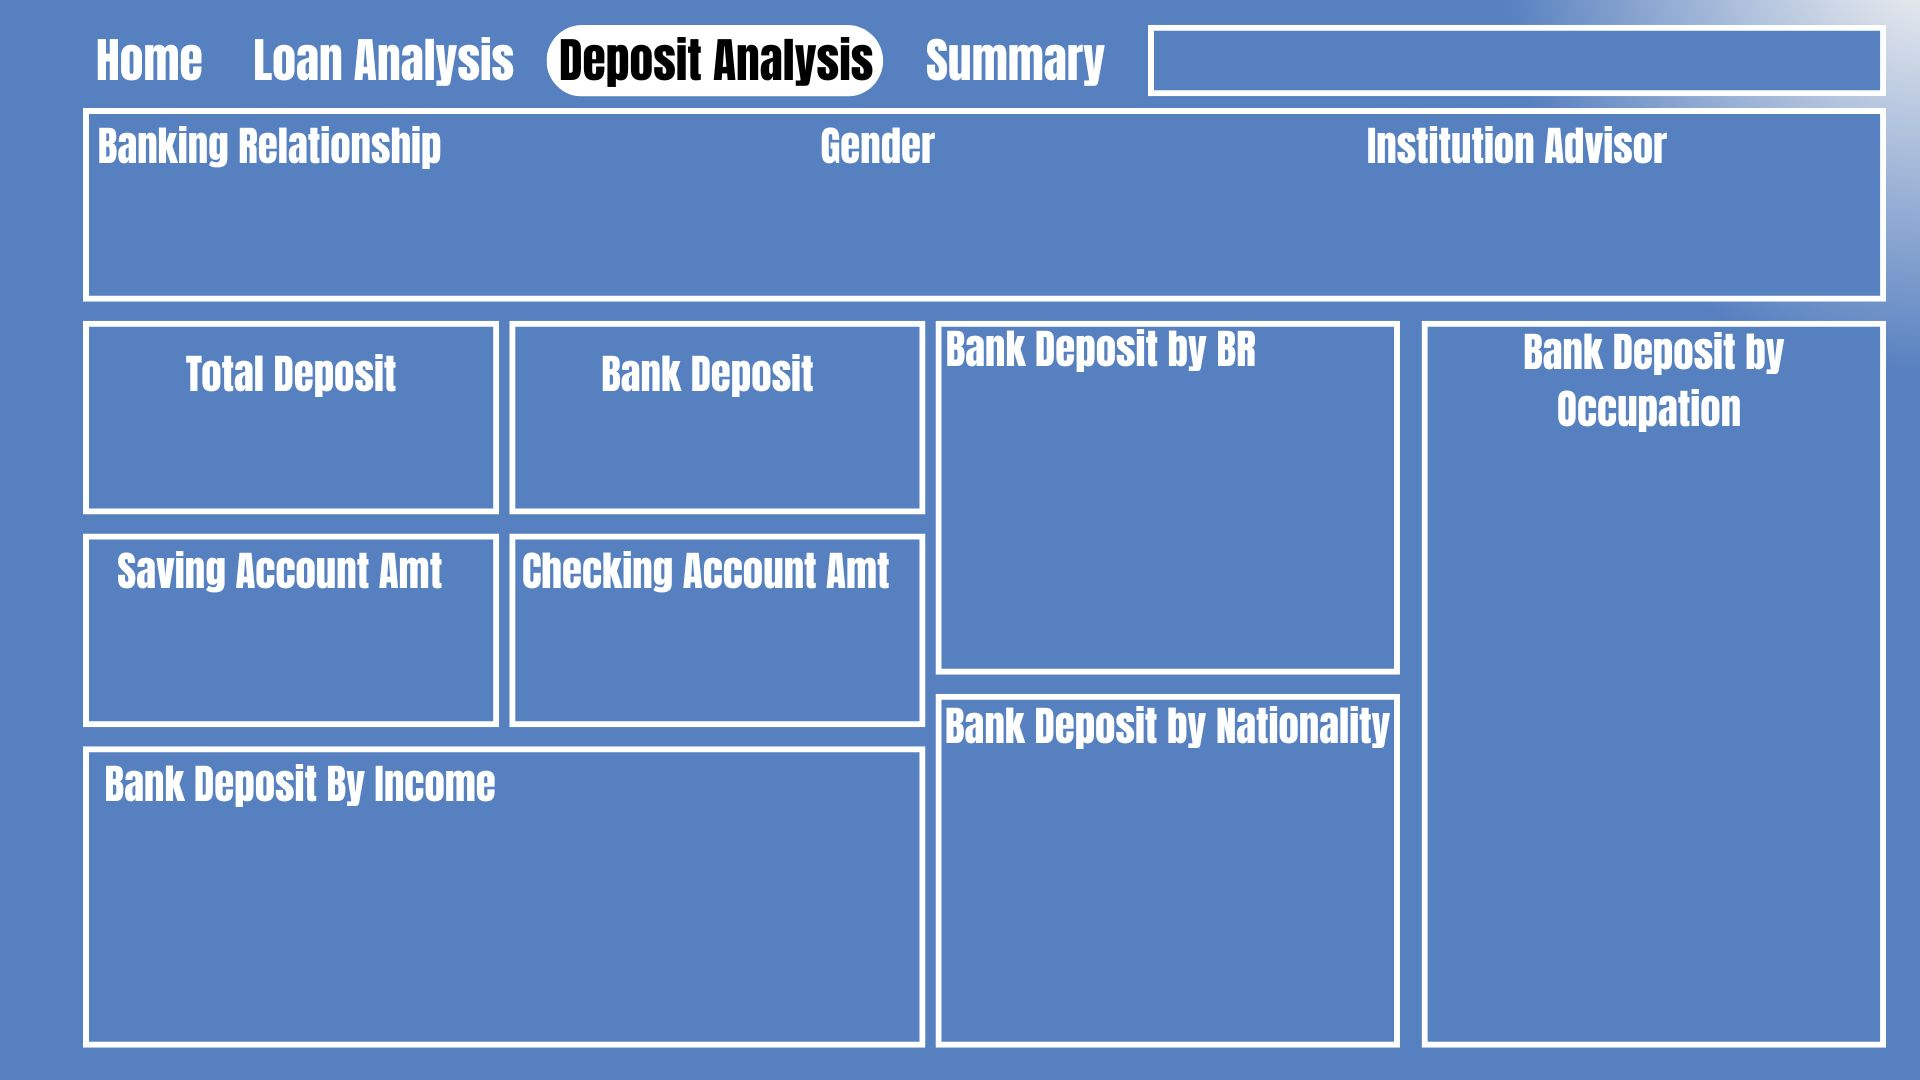

This screenshot's page, from the dashboard's own definition file:
{"tool":"powerbi","page":{"name":"Deposit Analysis","canvas":[1280,720],"ordinal":2},"visuals":[{"type":"slicer","fields":{"Values":["banking_case customer.Year of joining"]},"box":[754.8,15.3,514.4,49],"z":0},{"type":"cardVisual","fields":{"Data":["banking_case customer.Total_deposit"]},"box":[98,238.9,243.4,102.6],"z":1000},{"type":"cardVisual","fields":{"Data":["Sum(banking_case customer.Bank Deposits)"]},"box":[369,238.9,243.4,102.6],"z":2000},{"type":"cardVisual","fields":{"Data":["Sum(banking_case customer.Saving Accounts)"]},"box":[78.1,372.1,243.4,102.6],"z":3000},{"type":"cardVisual","fields":{"Data":["Sum(banking_case customer.Checking Accounts)"]},"box":[355.2,372.1,243.4,102.6],"z":4000},{"type":"slicer","fields":{"Values":["banking_case customer.BRId"]},"box":[36.7,113.3,500.7,78.1],"z":5000},{"type":"slicer","fields":{"Values":["banking_case customer.GenderId"]},"box":[512.9,113.3,375.1,78.1],"z":6000},{"type":"slicer","fields":{"Values":["banking_case customer.IAId"]},"box":[886.5,113.3,358.3,78.1],"z":7000},{"type":"pieChart","fields":{"Category":["banking_case customer.Income Band"],"Y":["Sum(banking_case customer.Bank Deposits)"]},"box":[105.6,509.9,534.4,209.8],"z":8000},{"type":"clusteredBarChart","fields":{"Category":["banking_case customer.BRId"],"Y":["Sum(banking_case customer.Bank Deposits)"]},"box":[624.7,238.9,315.4,211.3],"z":9000},{"type":"treemap","fields":{"Group":["banking_case customer.Nationality"],"Values":["Sum(banking_case customer.Bank Deposits)"]},"box":[624.7,494.5,300.1,205.2],"z":10000},{"type":"clusteredBarChart","fields":{"Y":["Sum(banking_case customer.Bank Deposits)"],"Category":["banking_case customer.Occupation"]},"box":[940.1,271,318.5,430.2],"z":11000},{"type":"actionButton","box":[47.5,19.9,99.5,39.8],"z":12000},{"type":"actionButton","box":[150,19.9,205.2,42.9],"z":13000},{"type":"actionButton","box":[612.4,19.9,130.1,39.8],"z":14000}]}

Visuals, with their boxes in screenshot pixels (x1, y1, x2, y2), scaled from the page's 1280x720 canvas onto the 1920x1080 screenshot:
slicer - banking_case customer.Year of joining: 1132 23 1904 96
cardVisual - banking_case customer.Total_deposit: 147 358 512 512
cardVisual - Sum(banking_case customer.Bank Deposits): 554 358 919 512
cardVisual - Sum(banking_case customer.Saving Accounts): 117 558 482 712
cardVisual - Sum(banking_case customer.Checking Accounts): 533 558 898 712
slicer - banking_case customer.BRId: 55 170 806 287
slicer - banking_case customer.GenderId: 769 170 1332 287
slicer - banking_case customer.IAId: 1330 170 1867 287
pieChart - banking_case customer.Income Band x Sum(banking_case customer.Bank Deposits): 158 765 960 1079
clusteredBarChart - banking_case customer.BRId x Sum(banking_case customer.Bank Deposits): 937 358 1410 675
treemap - banking_case customer.Nationality x Sum(banking_case customer.Bank Deposits): 937 742 1387 1050
clusteredBarChart - Sum(banking_case customer.Bank Deposits) x banking_case customer.Occupation: 1410 406 1888 1052
actionButton: 71 30 220 90
actionButton: 225 30 533 94
actionButton: 919 30 1114 90
